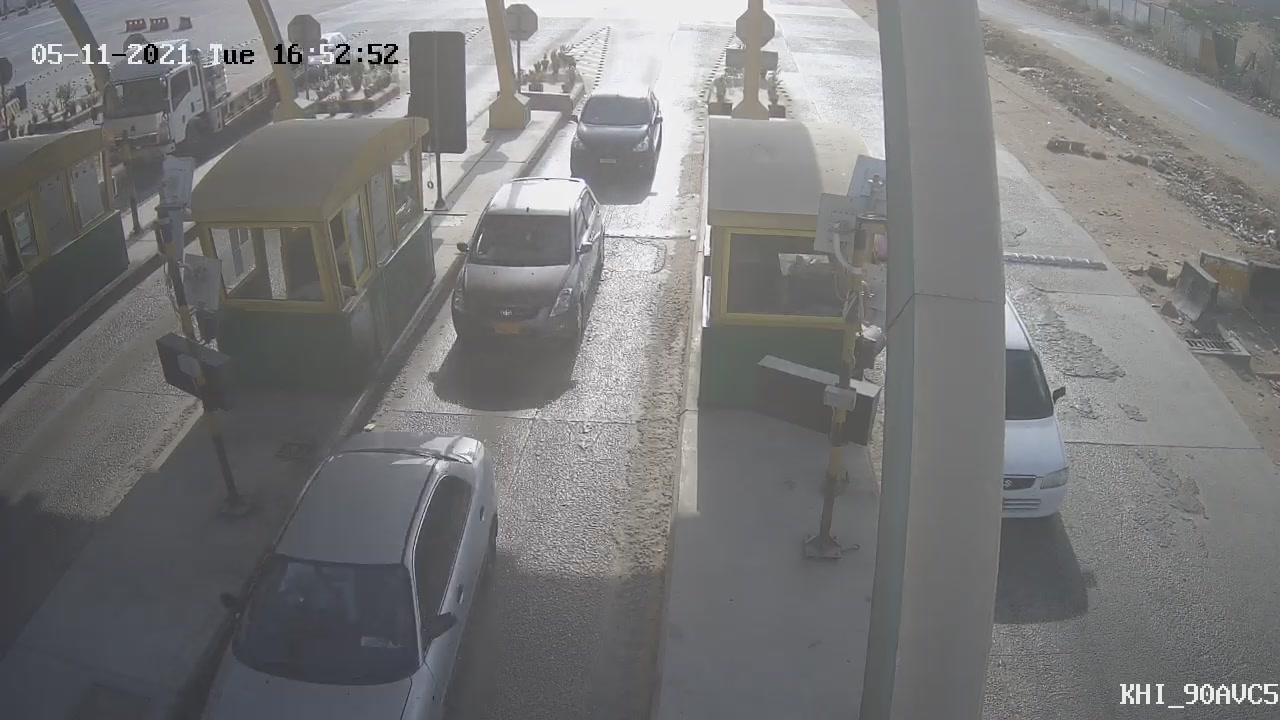F1: (424, 159, 622, 385), (551, 72, 677, 190)
